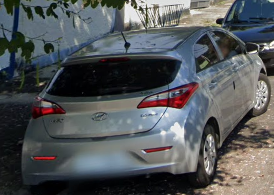car: (22, 25, 270, 184)
